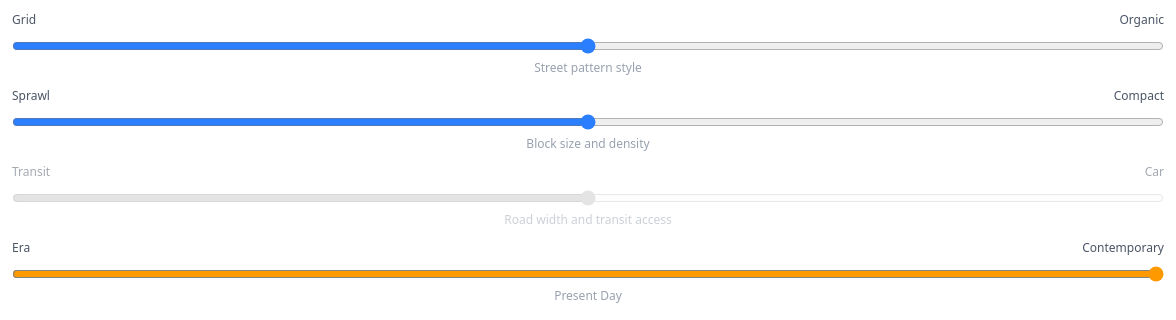
Test: PersonalitySliders › validation constraints › transit_car disabled for historic districts › shows tooltip explaining why transit is disabled for historic
This screenshot has width=1176, height=320.
Hover over the element showing "Transit Car Road width and transit access": [588, 196] box left=12, top=164, right=1164, bottom=228
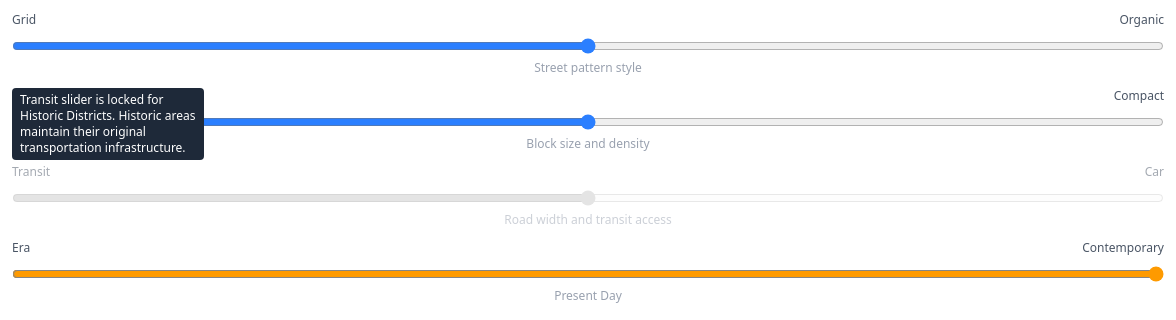
Check: the text with test id "constraint-tooltip-transit_car" is shown, box left=12, top=88, right=204, bottom=160
Check: the text with test id "constraint-tooltip-transit_car" shows "Historic Districts", box left=20, top=91, right=195, bottom=156
